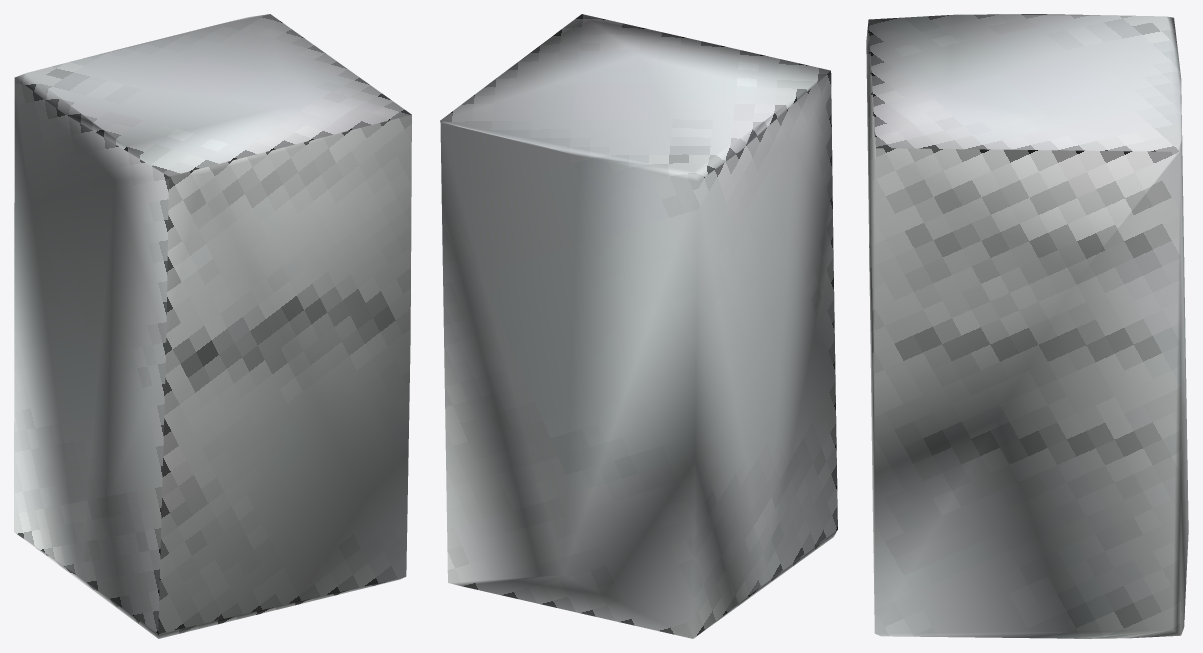
Rendered from Perricone_MD_Omega_3_Supplements-low.glb.
3 views of the same model, side by side, from view 1: azimuth 30°, elevation 25°; view 2: azimuth 150°, elevation 25°; view 3: azimuth 270°, elevation 25° (orthographic). The views are drawn at different scales.
Parts seen in each view (by area): view 1: Perricone_MD_Omega_3_Supplements; view 2: Perricone_MD_Omega_3_Supplements; view 3: Perricone_MD_Omega_3_Supplements.
Part boxes in pixels (bbox=[...]): Perricone_MD_Omega_3_Supplements: bbox=[14, 14, 411, 638]; Perricone_MD_Omega_3_Supplements: bbox=[440, 14, 837, 638]; Perricone_MD_Omega_3_Supplements: bbox=[866, 14, 1188, 638].
Size of the model in its own units: 0.0726 by 0.1259 by 0.0735.
Materials: 1 (1 with a texture image).
